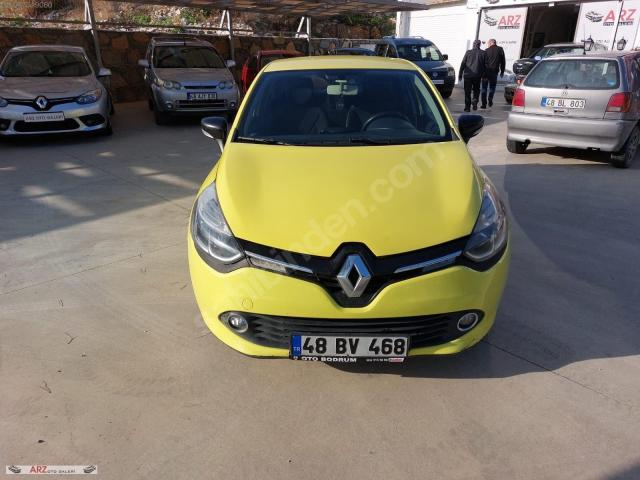plaka: (291, 335, 410, 358)
